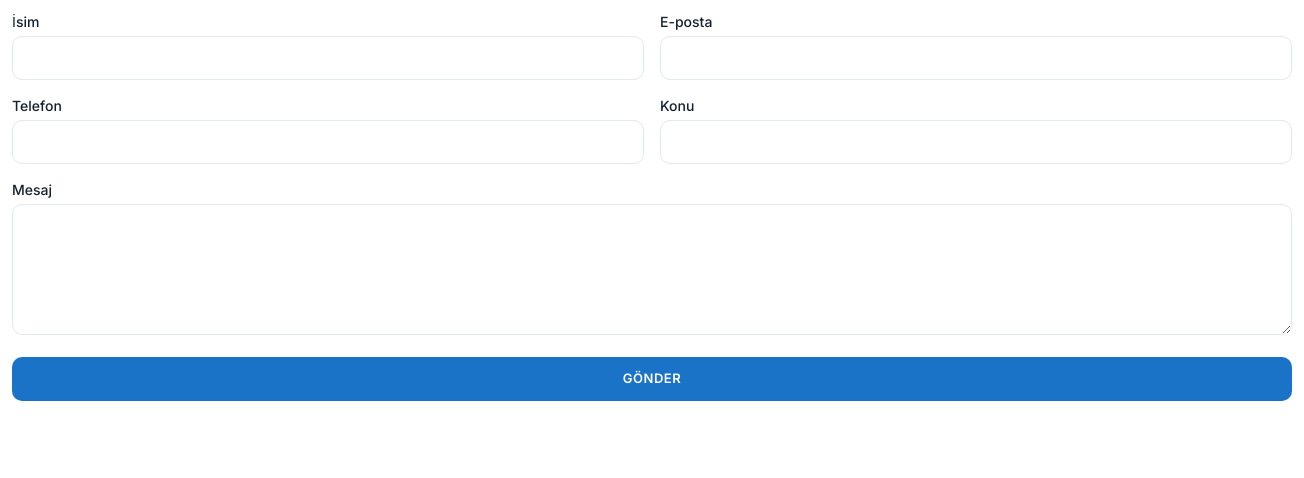
Test: ContactForm › boş form gönderilince hata mesajları gösterir
Click the button "Gönder" at (652, 378), box [12, 356, 1292, 400]
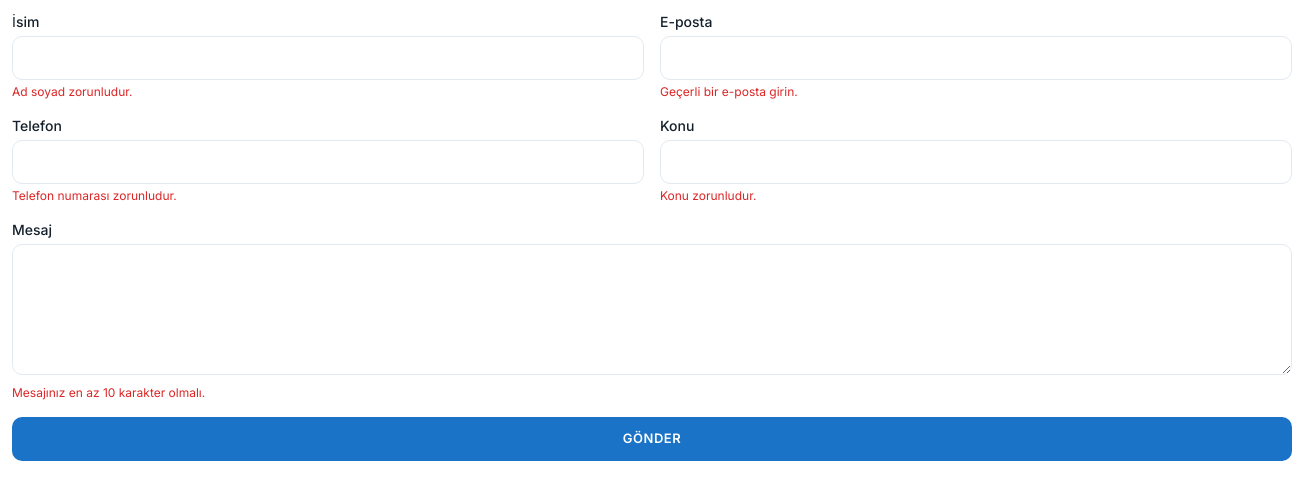
Check: the text "Ad soyad zorunludur." is shown, box [12, 84, 132, 99]
